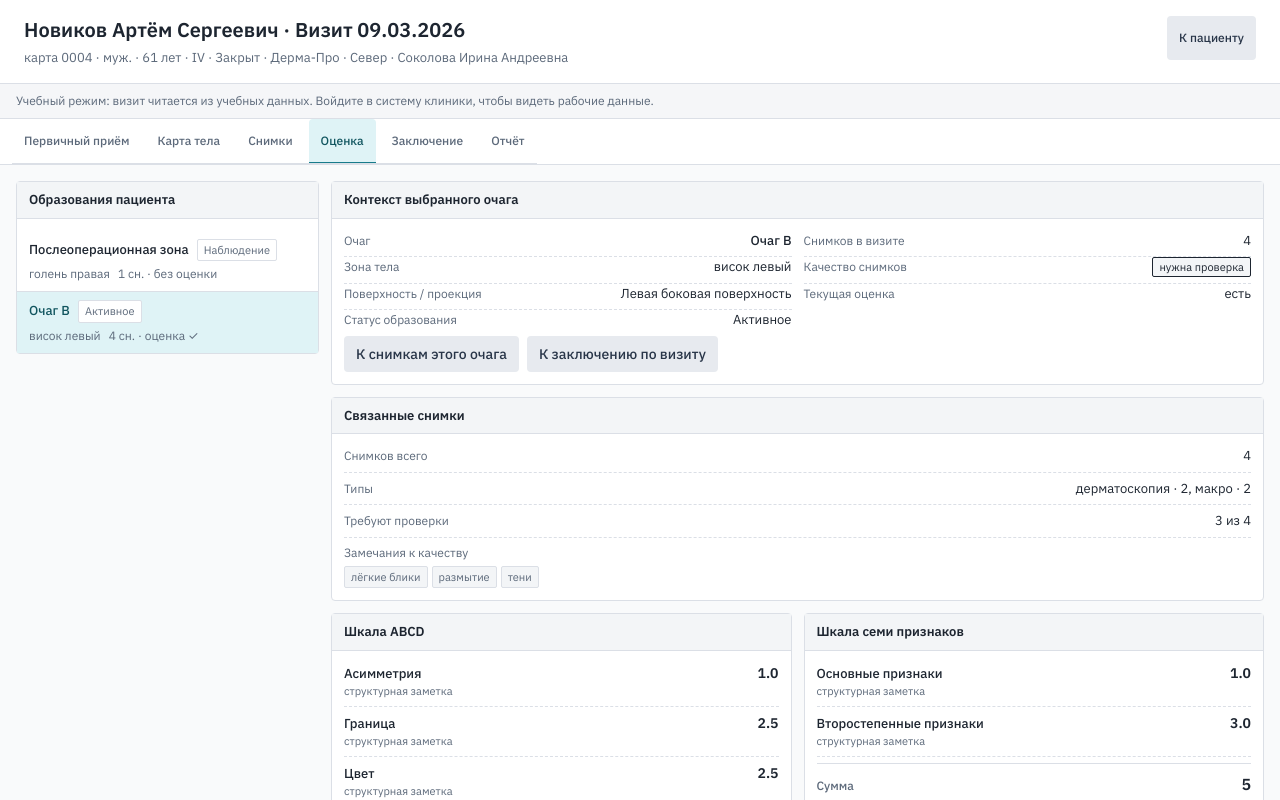
Test: VisitAssessmentTab · existing assessment + CTAs › CTA 'К снимкам этого очага' navigates to ?tab=imaging&lesion=l-008
The image size is (1280, 800).
Click the button "К снимкам этого очага".
click(431, 354)  # box x1=344 y1=336 x2=519 y2=372
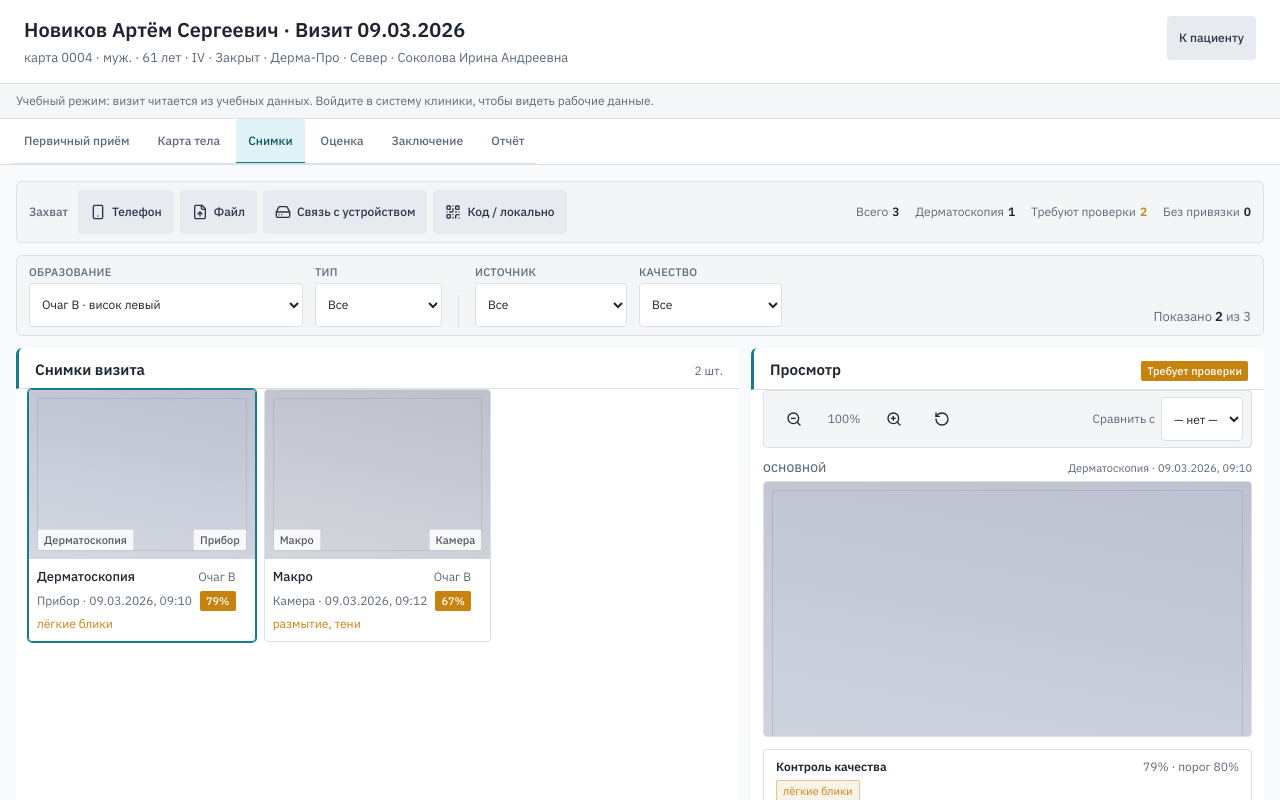
expect the dropdown labelled "Образование" is shown: met, box x1=29 y1=282 x2=303 y2=326
